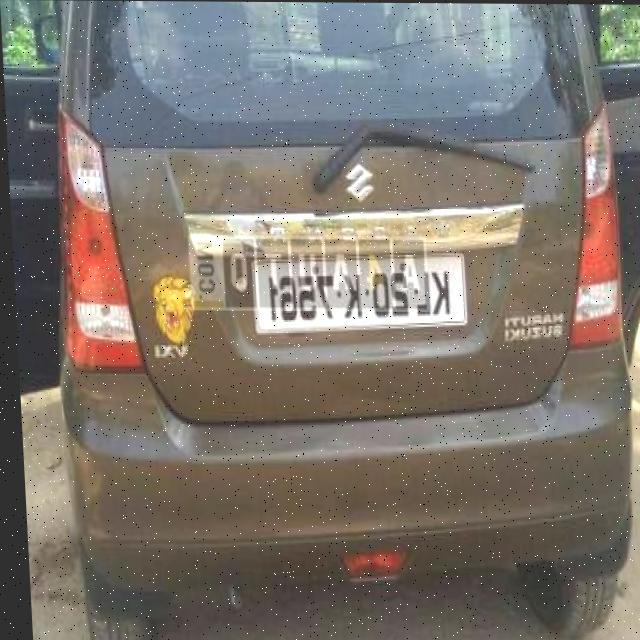plate: (253, 260, 461, 333)
